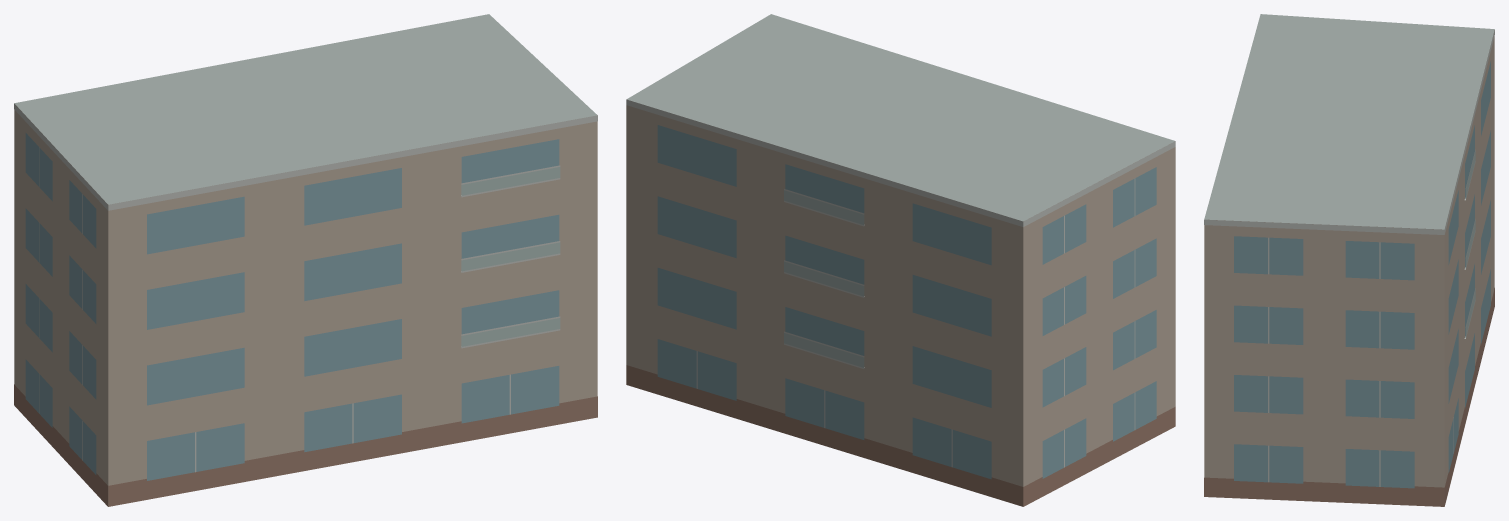
Rendered from residential-29fe60ce-4766-4a1b-826e-f91bb449f0ca.glb.
The picture shows the model from 3 angles, left to right: view 1: azimuth 30°, elevation 25°; view 2: azimuth 150°, elevation 25°; view 3: azimuth 270°, elevation 25°; orthographic projection. The views are drawn at different scales.
Visible parts, largest first — view 1: residential-29fe60ce-4766-4a1b-826e-f91bb449f0ca.tmp; view 2: residential-29fe60ce-4766-4a1b-826e-f91bb449f0ca.tmp; view 3: residential-29fe60ce-4766-4a1b-826e-f91bb449f0ca.tmp.
Boxes of the visible parts, x1,y1,x2,y2 form: residential-29fe60ce-4766-4a1b-826e-f91bb449f0ca.tmp: (14,14,597,506); residential-29fe60ce-4766-4a1b-826e-f91bb449f0ca.tmp: (626,14,1175,506); residential-29fe60ce-4766-4a1b-826e-f91bb449f0ca.tmp: (1204,14,1494,506).
Bounding box in the file's own units: 20.35 × 12.2 × 11.6.
